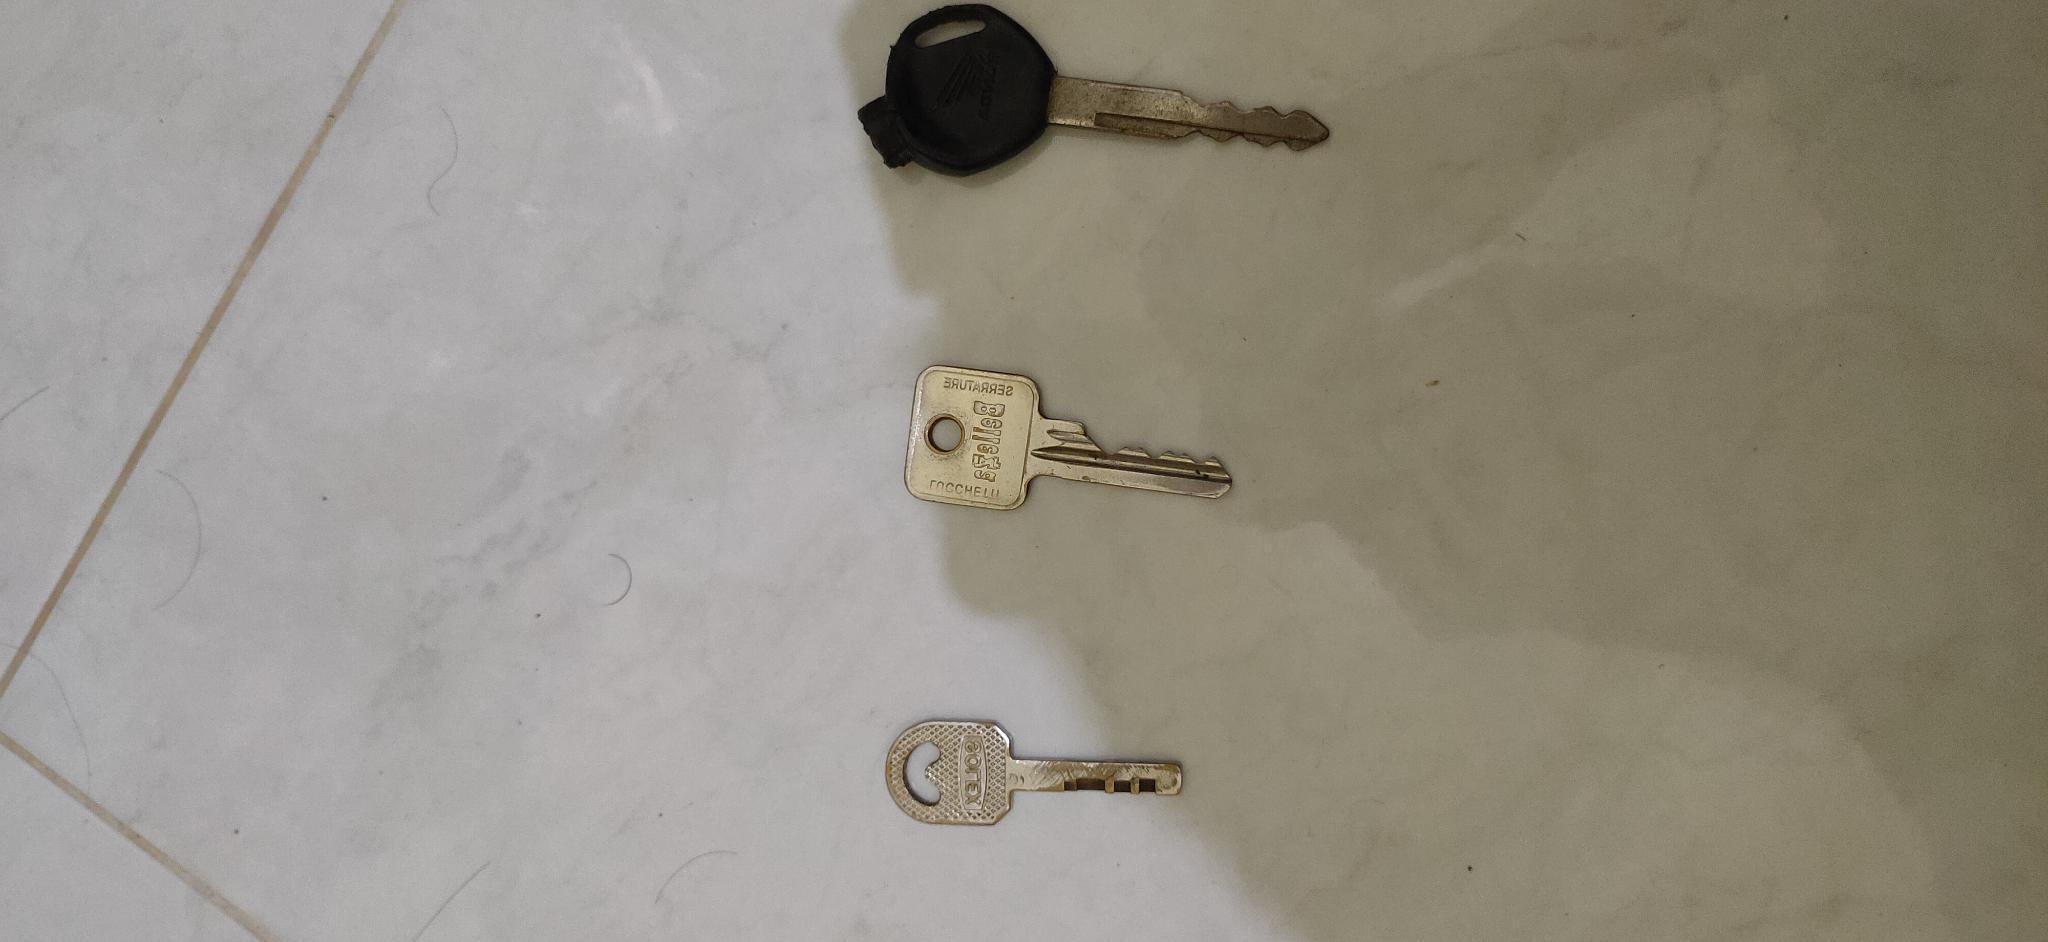keys: (842, 0, 1351, 186), (895, 357, 1241, 512), (876, 707, 1198, 844)
